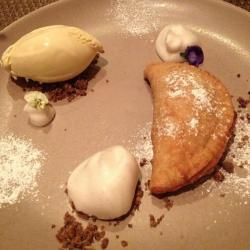apple_pie: (139, 57, 242, 203)
icecream: (61, 146, 149, 225), (6, 23, 105, 89)
